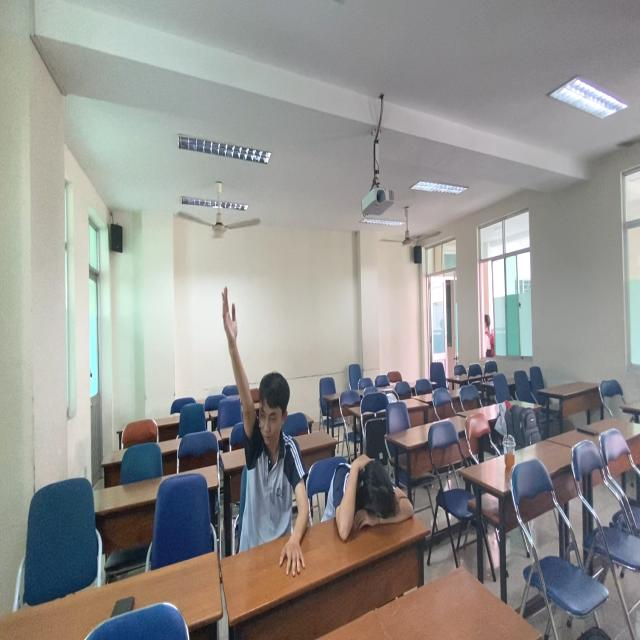raise_hand: (220, 282, 312, 574)
sleep: (320, 454, 421, 546)
